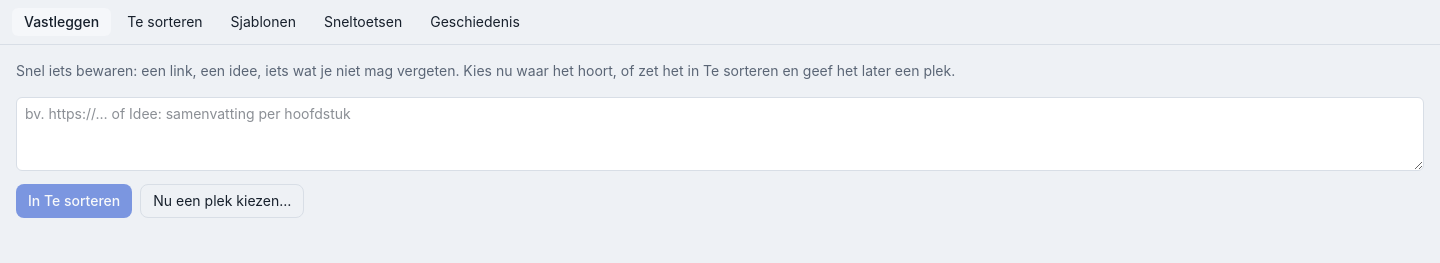
Test: Snel vastleggen › keeps a link for later and sorts it into a note
In the text box named "Wat wil je bewaren?": (720, 134) [16,97,1424,171], type "Lezen voor Elektronica https://ap.be/les3"
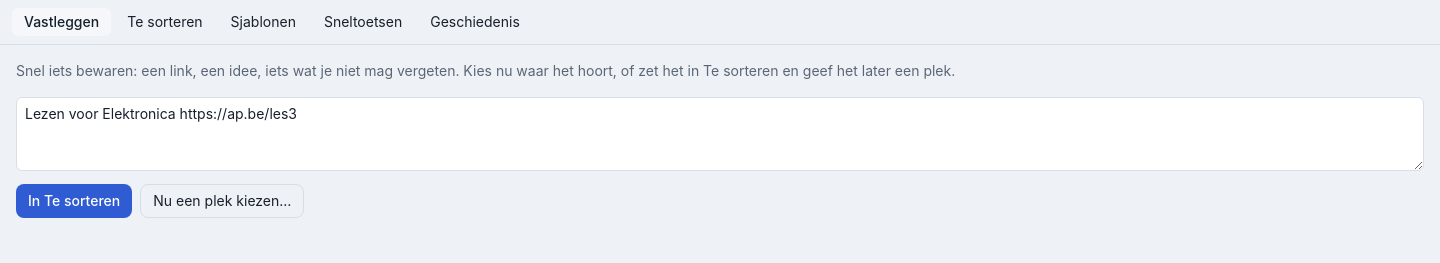
Click the button "In Te sorteren": click(74, 201) [16,184,132,218]
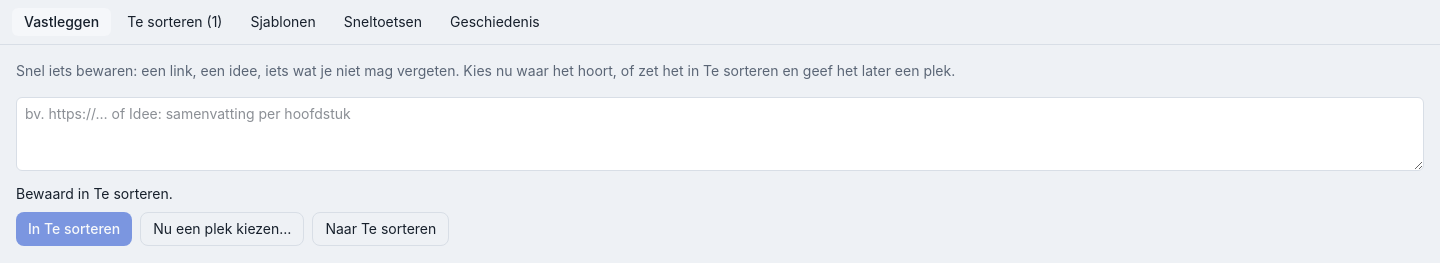
Now the message reads "Bewaard in Te sorteren.", box [16,185,173,202]
Click the tab "Te sorteren (1)": click(175, 22) [115,8,234,36]
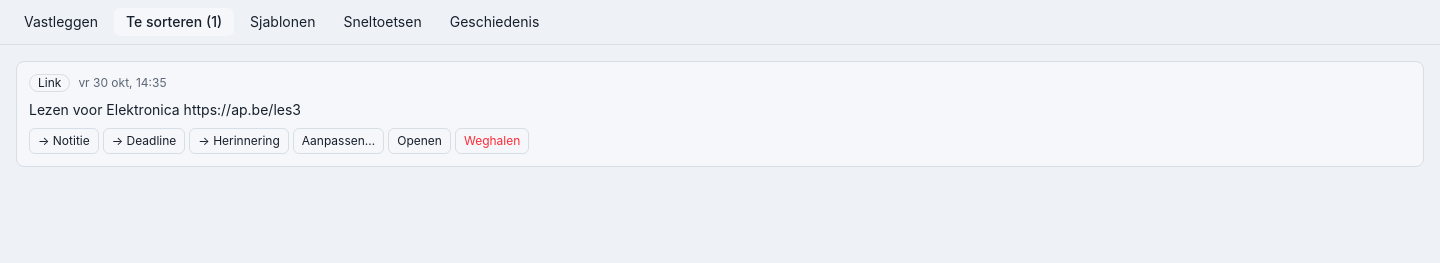
Expected: the text "Link" is shown, [29,74,70,92]
Click the button with aria-label "naar Notitie": click(64, 141) [29,128,99,154]
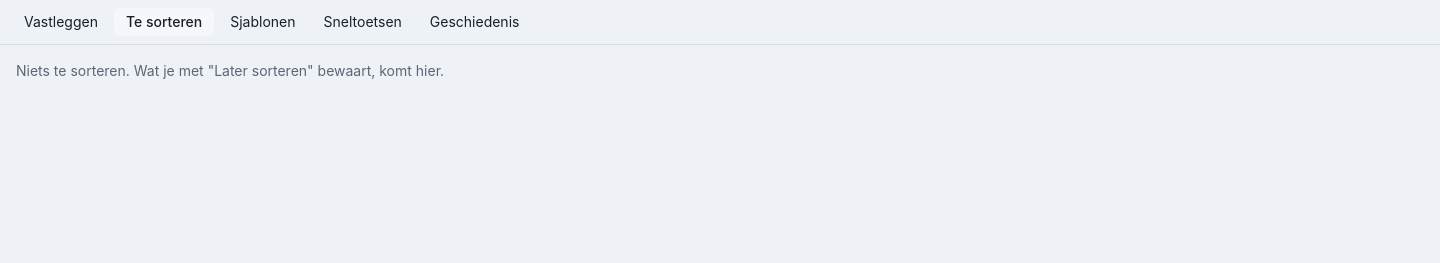
Now the text "Niets te sorteren" is shown, box [16,62,444,79]
Click the tab "Geschiedenis": click(475, 22) [418,8,531,36]
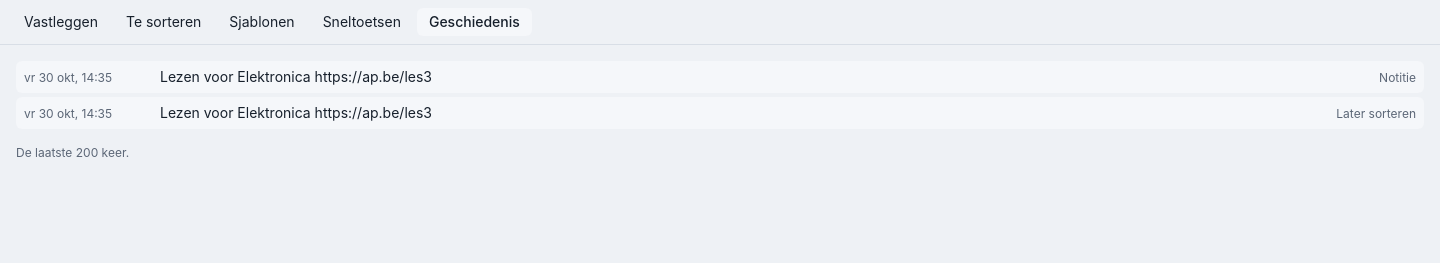
Now the text "Lezen voor Elektronica https://ap.be/les3" is shown 2 times, box [160,68,432,85]; [160,104,432,121]
